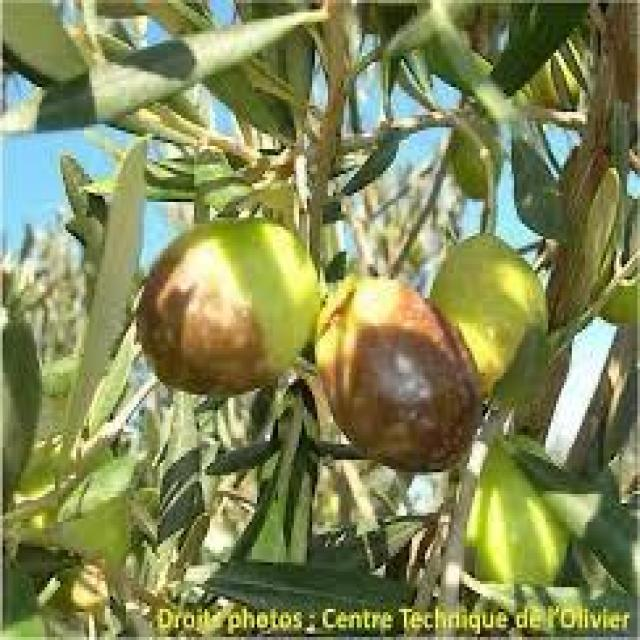Olive Fruit Fly: (315, 277, 480, 470), (139, 217, 317, 391)
